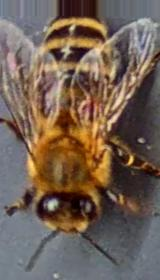varroa_mite: (71, 86, 111, 123)
